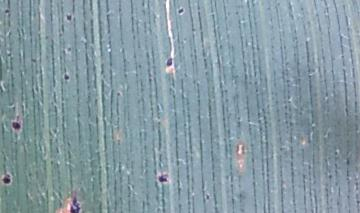tarspot: (68, 195, 81, 213), (157, 172, 169, 184), (11, 119, 21, 133), (1, 172, 11, 185), (59, 22, 66, 36), (165, 56, 173, 67), (62, 72, 71, 81), (65, 12, 72, 23), (355, 198, 360, 213), (177, 6, 185, 15), (204, 193, 212, 202), (28, 56, 38, 63), (2, 8, 11, 15), (66, 46, 73, 54), (345, 156, 350, 166), (333, 148, 339, 156), (327, 173, 333, 181), (115, 91, 121, 97)
